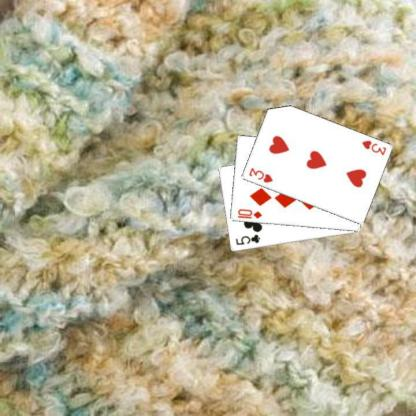10D: (235, 207, 263, 219)
3H: (246, 166, 274, 184), (359, 138, 387, 156)
5C: (233, 232, 261, 246)
